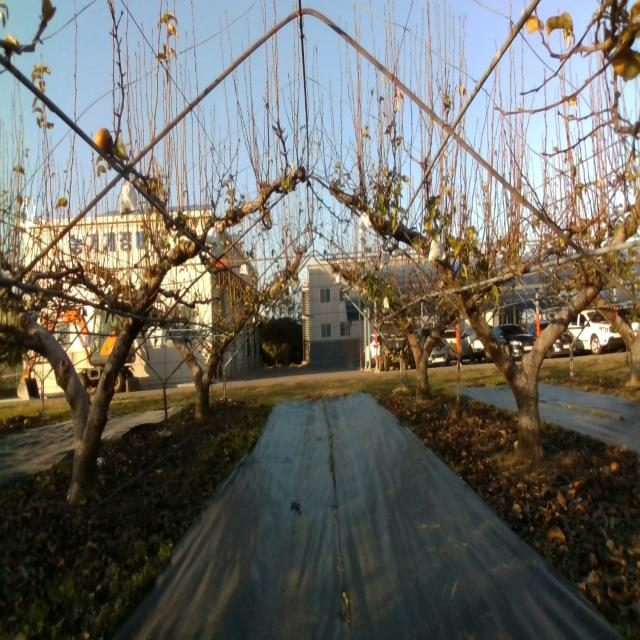pearbags: (120, 174, 138, 220), (428, 238, 446, 262), (204, 222, 220, 249), (359, 212, 372, 234), (380, 251, 391, 270)
